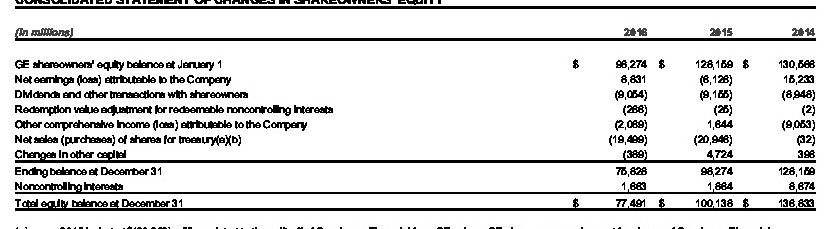table: (0, 0, 831, 229)
